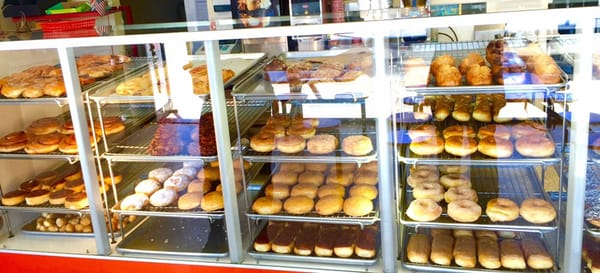salad: (519, 197, 558, 225), (515, 134, 556, 158), (406, 197, 443, 222), (446, 199, 483, 223), (486, 198, 520, 223), (0, 131, 29, 152), (283, 196, 315, 215), (149, 188, 177, 208), (466, 65, 493, 85)
